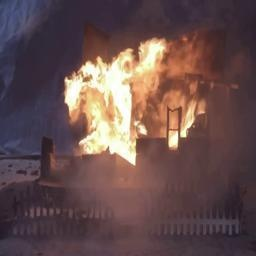fire: (58, 36, 214, 158)
